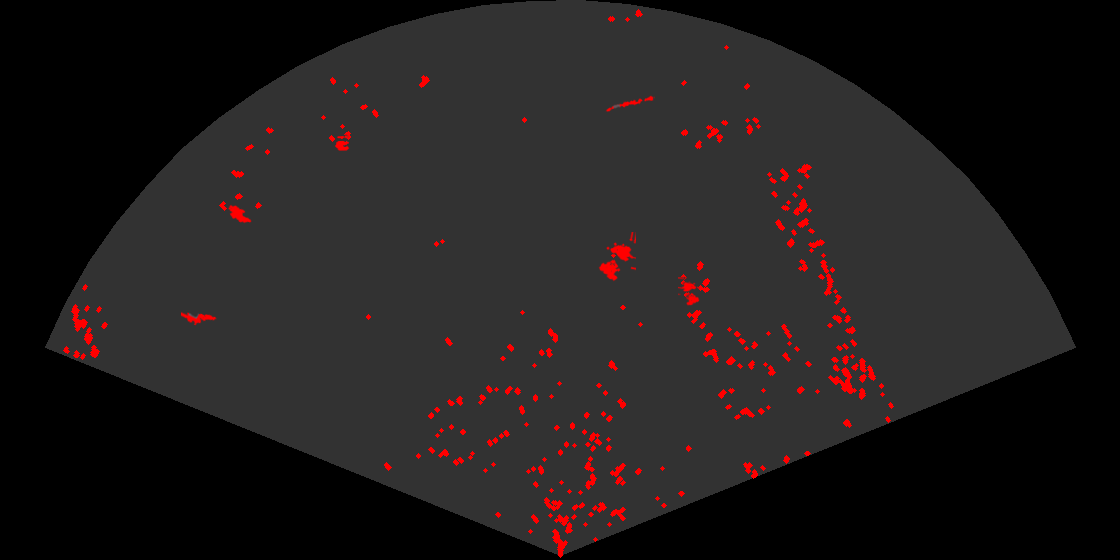AUV: (227, 203, 253, 225)
ball: (334, 134, 351, 152)
cage: (597, 232, 636, 283), (678, 277, 701, 307)
chain: (604, 94, 655, 114)
frogman: (181, 310, 217, 327)
